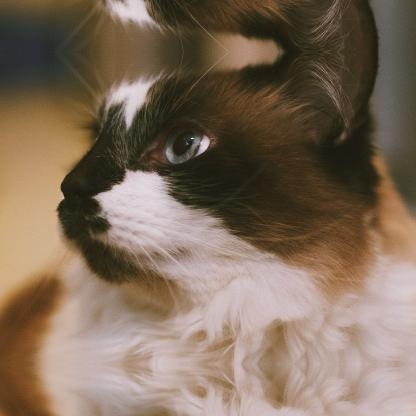Cat: (0, 53, 415, 364)
